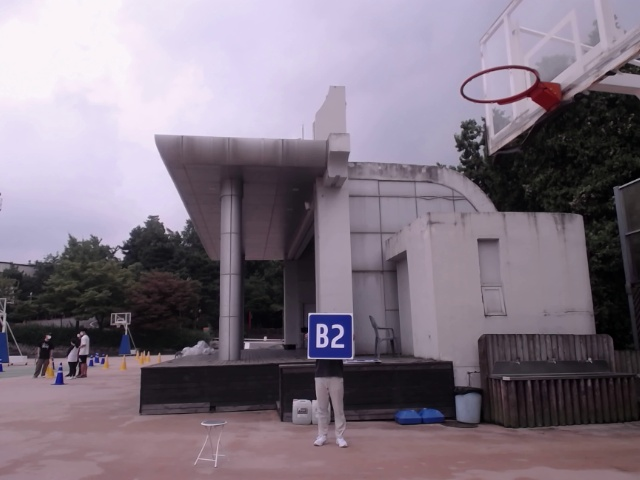delivery_b2: (307, 313, 353, 359)
